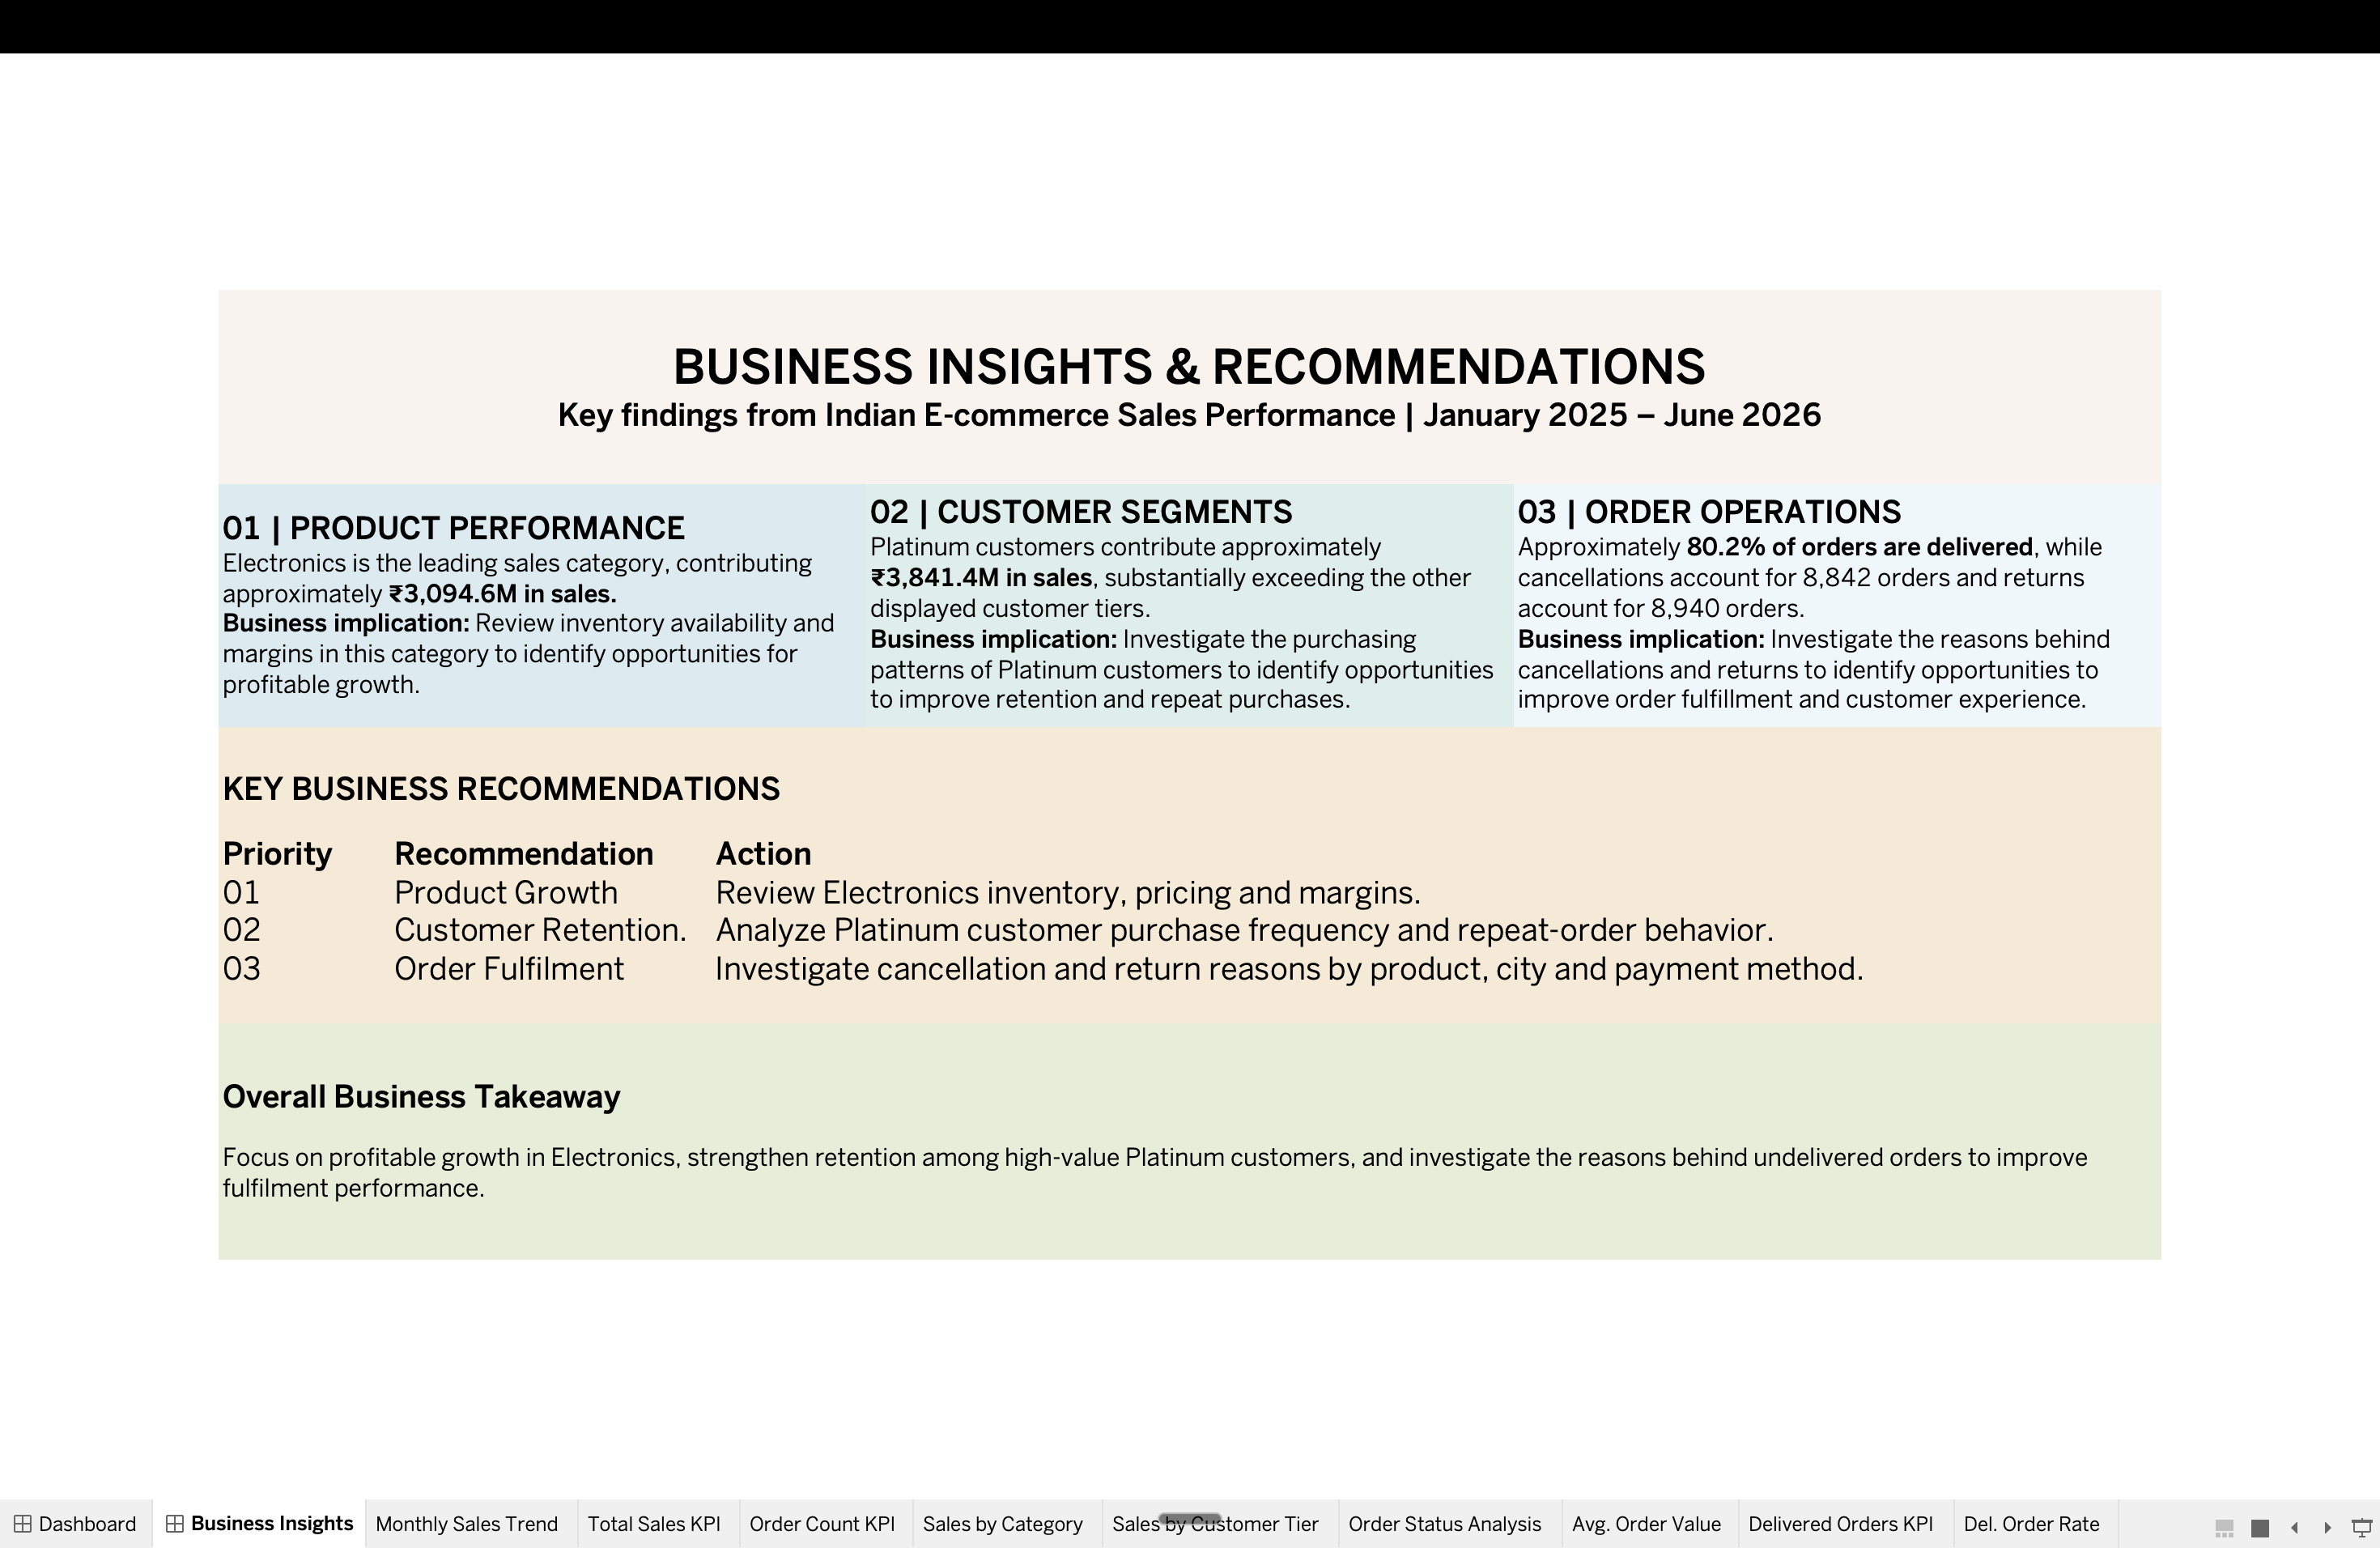

Layout of this report page (visuals, bound fields, positions):
{"tool":"tableau","page":{"name":"Business Insights","canvas":[1200,600],"ordinal":0},"visuals":[{"type":"text","box":[0,0,1200,120]},{"type":"text","box":[0,120,400,150]},{"type":"text","box":[400,120,400,150]},{"type":"text","box":[800,120,400,150]},{"type":"text","box":[0,270,1200,190]},{"type":"text","box":[0,453,1200,146]}]}

Visuals, with their boxes on the page's 1200x600 design canvas (x1, y1, x2, y2). These are canvas units, not pixel positions in the 2380x1548 screenshot, which may show the page scaled, cropped or inside an application window:
text: BBox(0, 0, 1200, 120)
text: BBox(0, 120, 400, 270)
text: BBox(400, 120, 800, 270)
text: BBox(800, 120, 1200, 270)
text: BBox(0, 270, 1200, 460)
text: BBox(0, 453, 1200, 599)
